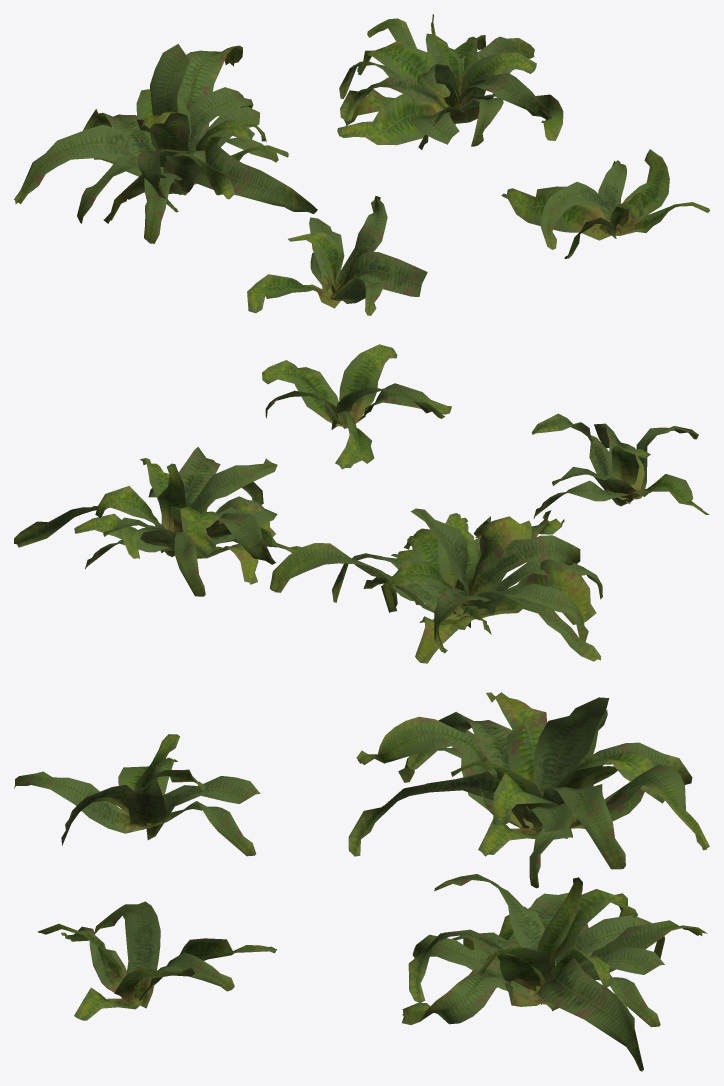
File: fern_02.glb
The picture shows the model from 3 angles, top to bottom: view 1: azimuth 30°, elevation 25°; view 2: azimuth 150°, elevation 25°; view 3: azimuth 270°, elevation 25°; orthographic projection. The views are drawn at different scales.
Visible parts, largest first — view 1: fern_02_b; view 2: fern_02_b; view 3: fern_02_b.
Boxes of the visible parts, bbox=[...] form: fern_02_b: bbox=[14, 14, 709, 315]; fern_02_b: bbox=[14, 344, 709, 663]; fern_02_b: bbox=[14, 692, 709, 1071].
Bounding box in the file's own units: 1.97 × 0.4277 × 1.72.
Materials: 1 (1 with a texture image).
